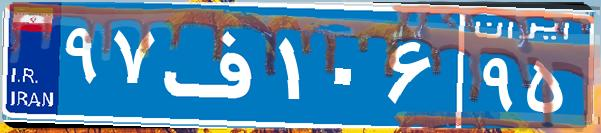0: (330, 28, 385, 110)
1: (273, 28, 330, 110)
5: (525, 38, 570, 115)
6: (385, 28, 445, 110)
7: (110, 28, 158, 105)
9: (57, 26, 110, 107), (475, 38, 525, 113)
ف: (158, 15, 273, 115)
